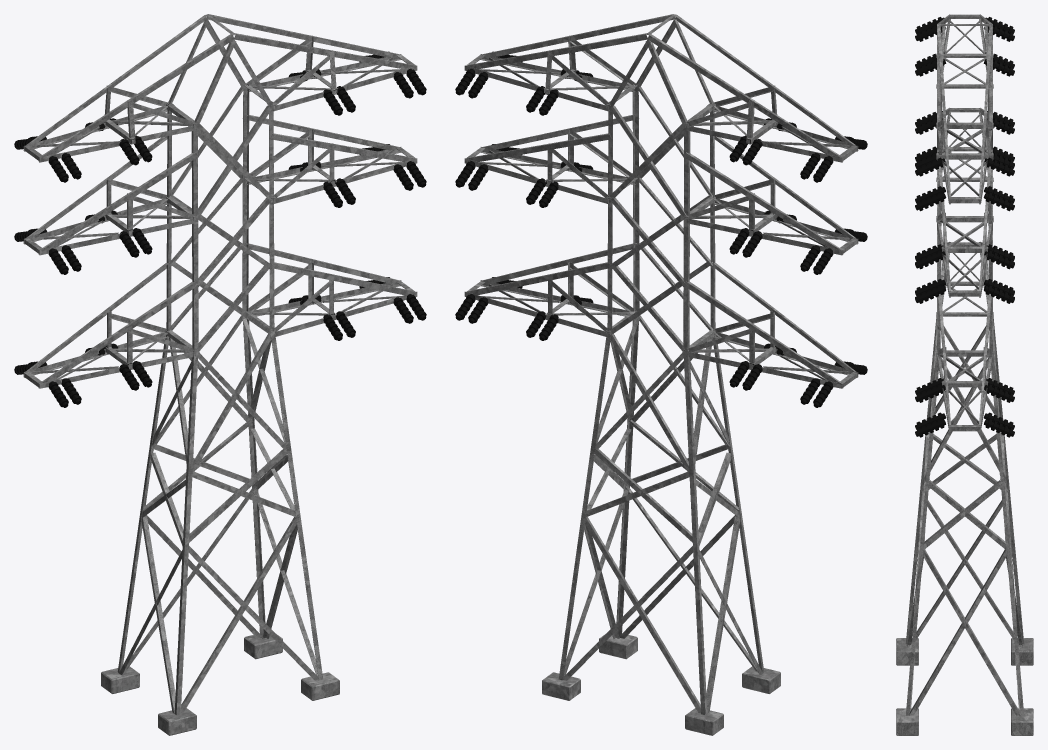
The model's file is TansmissionTower.fbx.
3 renders of one model, left to right at view 1: azimuth 30°, elevation 25°; view 2: azimuth 150°, elevation 25°; view 3: azimuth 270°, elevation 25°, orthographic.
Visible parts, largest first — view 1: Transmission_Tower, Insulators; view 2: Transmission_Tower, Insulators; view 3: Transmission_Tower, Insulators.
Boxes of the visible parts, box(x1,y1,x2,y2) form: Transmission_Tower: box(23, 14, 417, 735); Insulators: box(14, 51, 426, 407); Transmission_Tower: box(464, 14, 858, 735); Insulators: box(455, 51, 867, 407); Transmission_Tower: box(896, 14, 1033, 735); Insulators: box(915, 17, 1014, 437).
Size of the model in its own units: 3166 by 5336 by 992.
